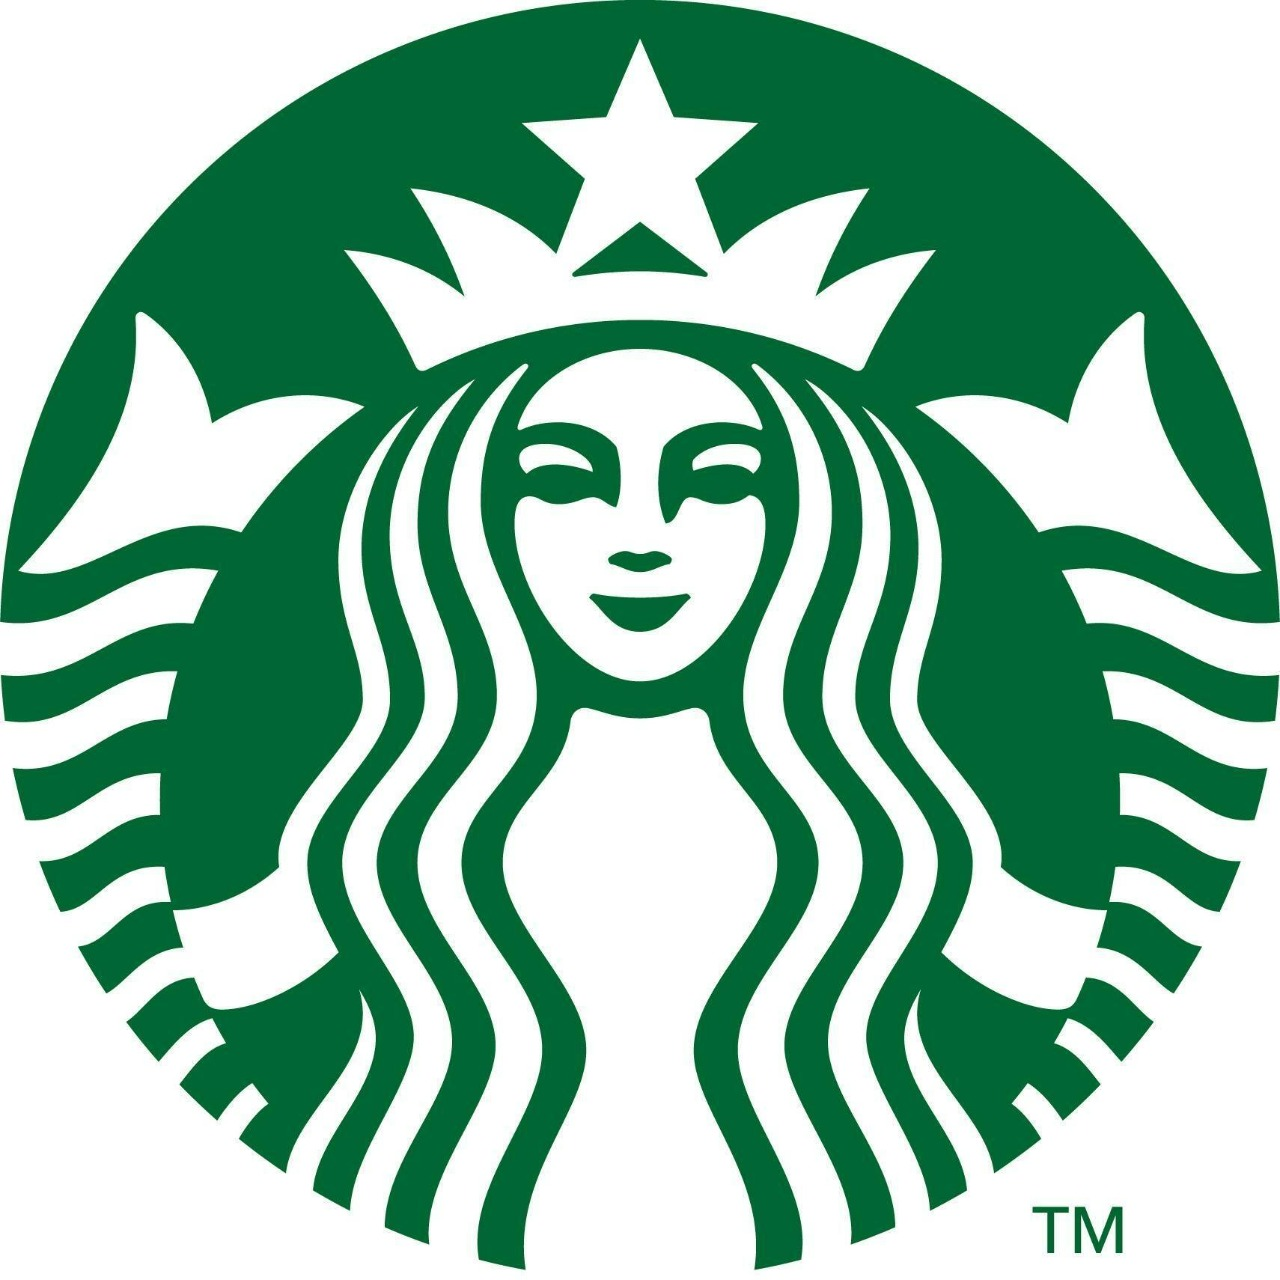starbucks Originale: (1, 14, 1280, 1280)
